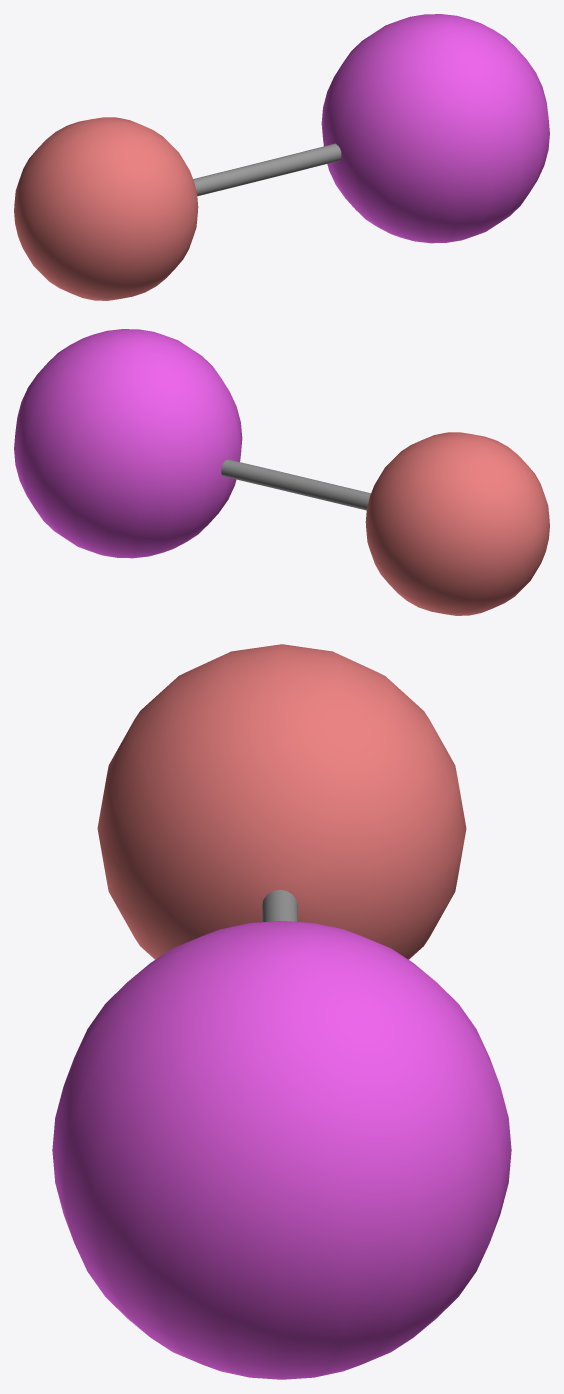
Rendered from LiF.fbx.
The picture shows the model from 3 angles, top to bottom: view 1: azimuth 30°, elevation 25°; view 2: azimuth 150°, elevation 25°; view 3: azimuth 270°, elevation 25°; orthographic projection. The views are drawn at different scales.
Visible parts, largest first — view 1: LiF; view 2: LiF; view 3: LiF.
Part boxes in pixels (x1,y1,x2,y2): LiF: (14, 14, 549, 300); LiF: (14, 329, 549, 615); LiF: (52, 644, 511, 1379).
Size of the model in its own units: 5.89 by 2.3 by 2.3.
